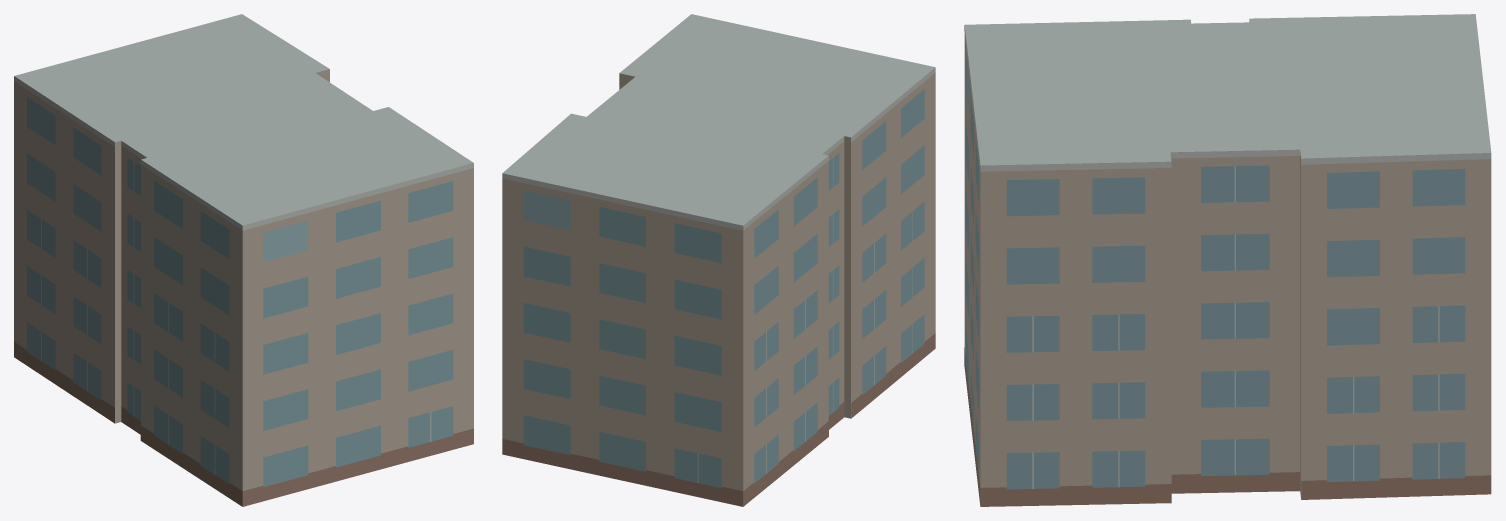
The model's file is survey-upis-32742103.glb.
The picture shows the model from 3 angles, left to right: view 1: azimuth 30°, elevation 25°; view 2: azimuth 150°, elevation 25°; view 3: azimuth 270°, elevation 25°; orthographic projection. The views are drawn at different scales.
Visible parts, largest first — view 1: survey-upis-32742103.tmp; view 2: survey-upis-32742103.tmp; view 3: survey-upis-32742103.tmp.
Boxes of the visible parts, left/top/right/bottom form: survey-upis-32742103.tmp: left=14, top=14, right=473, bottom=506; survey-upis-32742103.tmp: left=502, top=14, right=935, bottom=506; survey-upis-32742103.tmp: left=964, top=14, right=1491, bottom=506.
Size of the model in its own units: 12.86 by 13.5 by 18.89.
